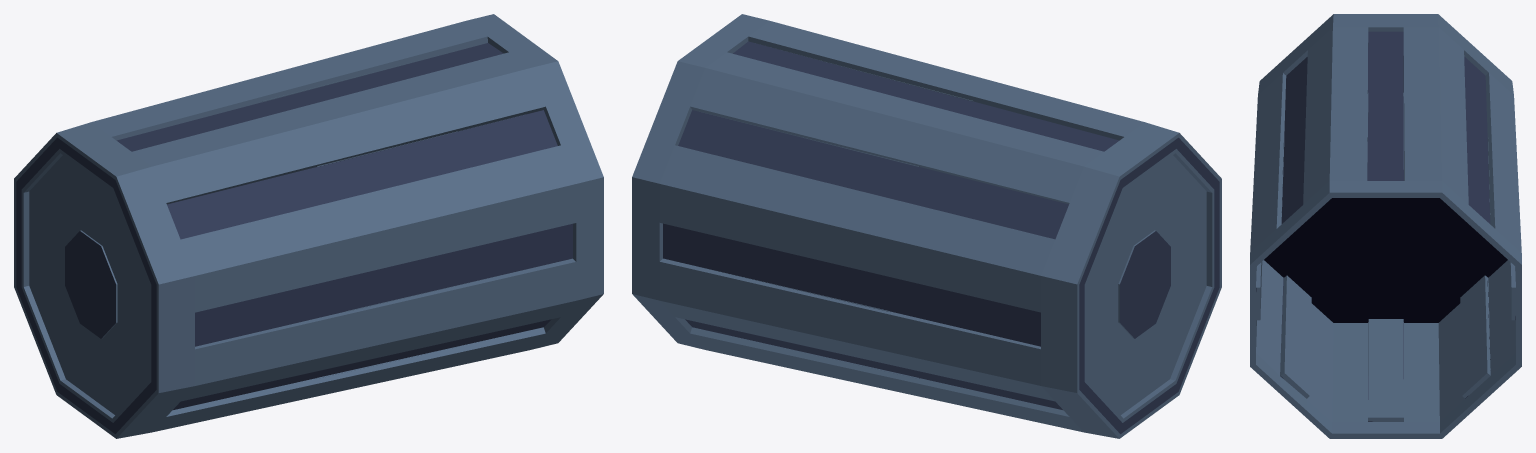
File: Band_TrashDrum03.fbx
3 views of the same model, side by side, from view 1: azimuth 30°, elevation 25°; view 2: azimuth 150°, elevation 25°; view 3: azimuth 270°, elevation 25° (orthographic). The views are drawn at different scales.
Visible parts, largest first — view 1: Cylinder.195; view 2: Cylinder.195; view 3: Cylinder.195.
Boxes of the visible parts, x1,y1,x2,y2 form: Cylinder.195: (14,14,603,438); Cylinder.195: (632,14,1221,438); Cylinder.195: (1250,14,1521,438).
Size of the model in its own units: 73.3 by 44.94 by 44.94.
